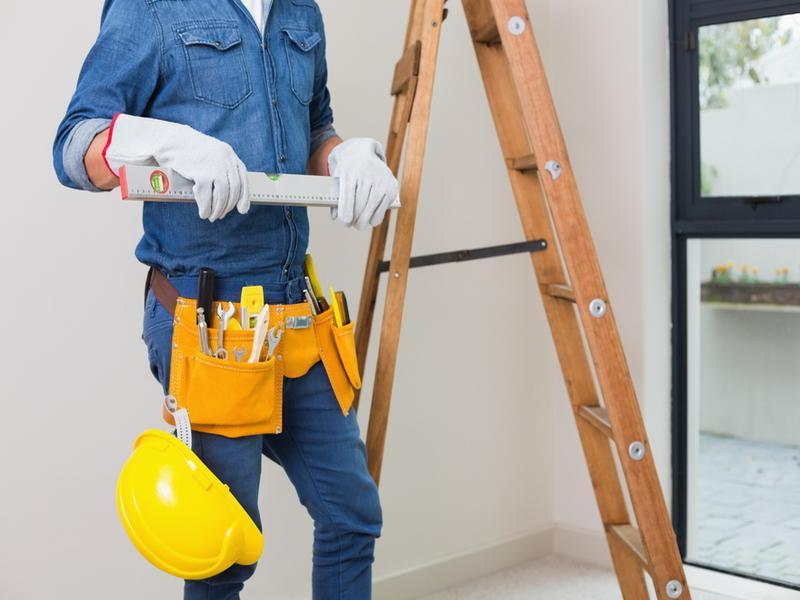rivet: (541, 159, 563, 183), (626, 440, 647, 461), (587, 298, 608, 319), (664, 578, 684, 600), (508, 16, 526, 35)
